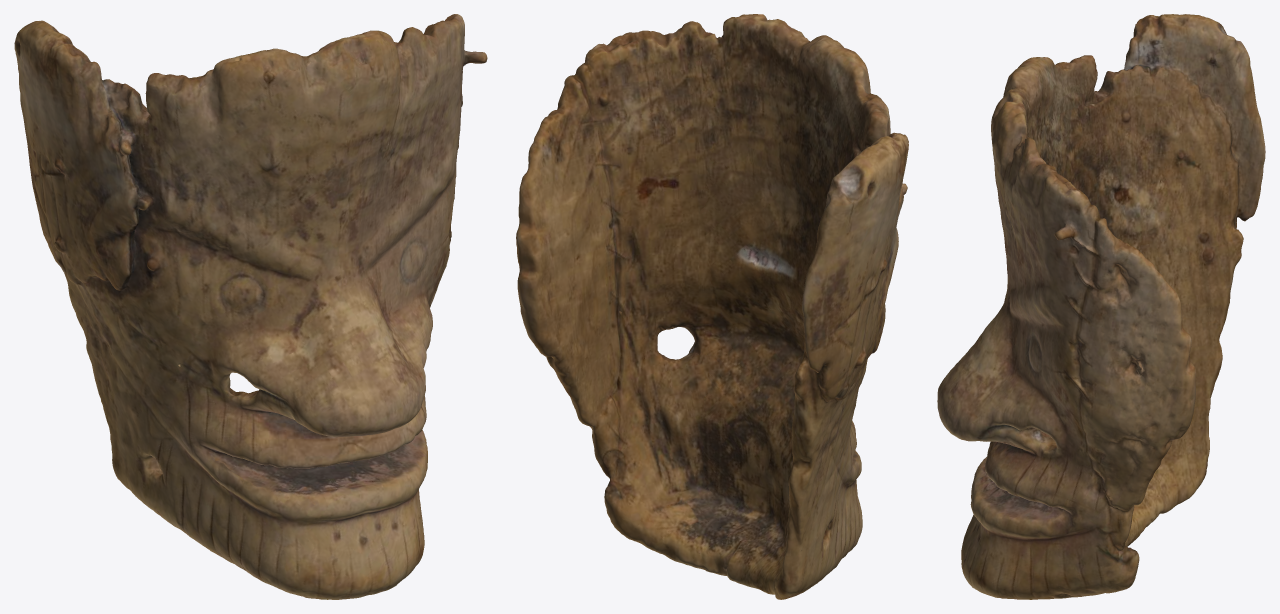
File: Wooden_Mask-150k-1024-low.glb
3 views of the same model, side by side, from view 1: azimuth 30°, elevation 25°; view 2: azimuth 150°, elevation 25°; view 3: azimuth 270°, elevation 25° (orthographic). The views are drawn at different scales.
Visible parts, largest first — view 1: Wooden_Mask-unwrapped-webmulti; view 2: Wooden_Mask-unwrapped-webmulti; view 3: Wooden_Mask-unwrapped-webmulti.
Boxes of the visible parts, x1=… form: Wooden_Mask-unwrapped-webmulti: x1=14, y1=14, x2=487, y2=599; Wooden_Mask-unwrapped-webmulti: x1=516, y1=14, x2=908, y2=599; Wooden_Mask-unwrapped-webmulti: x1=937, y1=14, x2=1265, y2=599.
Bounding box in the file's own units: 236 × 314 × 191.
Materials: 1 (1 with a texture image).
